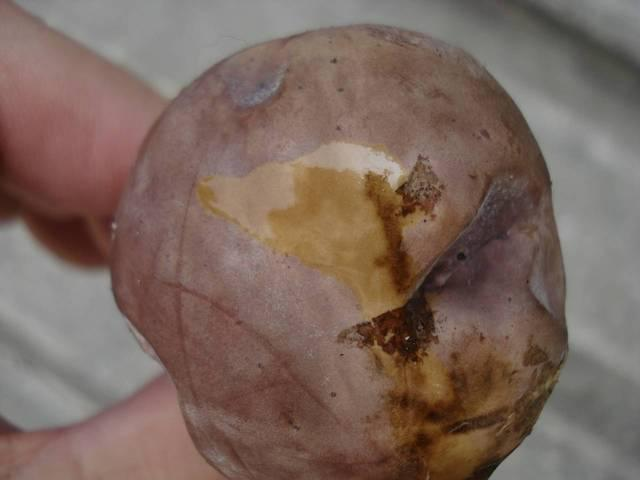Non-edible Mushroom: (106, 21, 570, 479)
